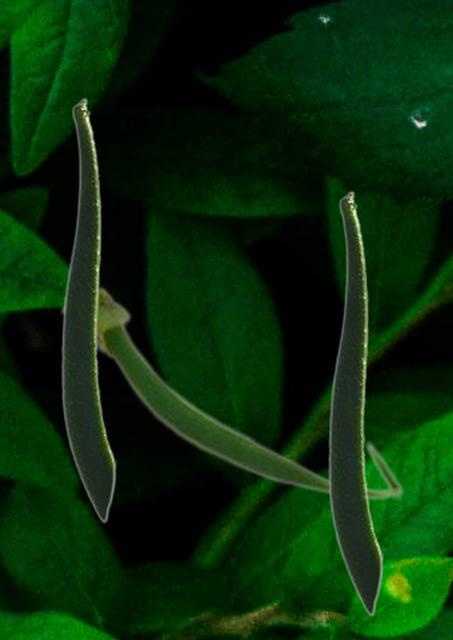french_bean: (58, 283, 404, 501), (327, 190, 383, 616), (60, 97, 116, 523)
